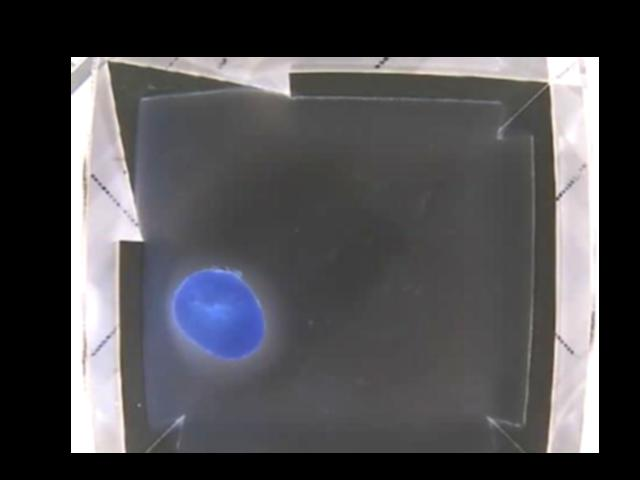Potato: (171, 268, 266, 359)
